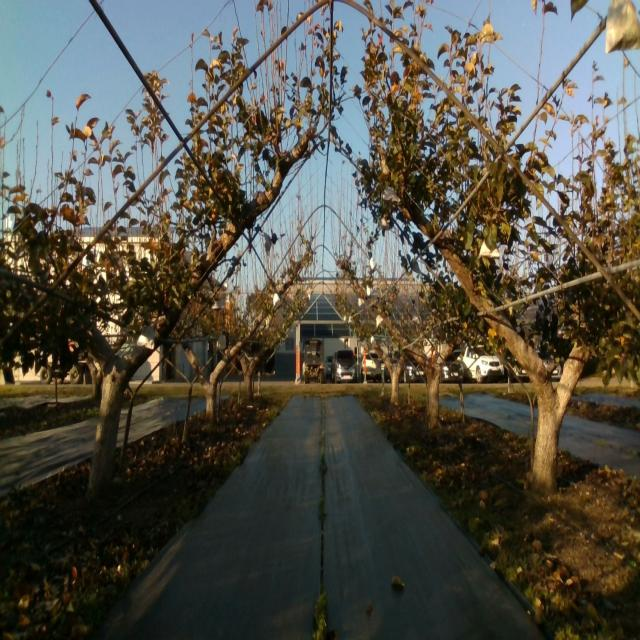pearbags: (137, 325, 155, 349), (382, 185, 400, 205)
